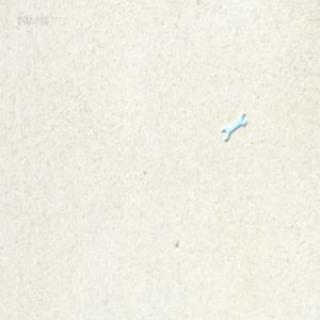Wrenchtrack_idkeyframe: (220, 112, 246, 142)
